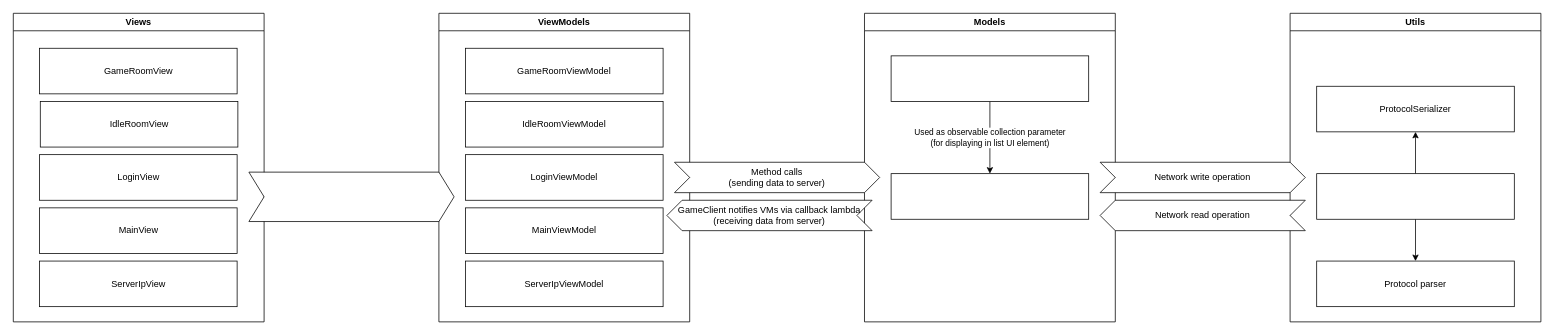
This 1554x335 diagram has some shape labels left out. The shapes that lost their labels are listed below. From the top down, each one's centre as x and y in pixels, then its label:
(x=989, y=78): GameRoomListItem
(x=351, y=196): Views bind to ViewModel properties
(x=989, y=196): GameClient
(x=1415, y=196): ClientConnection
